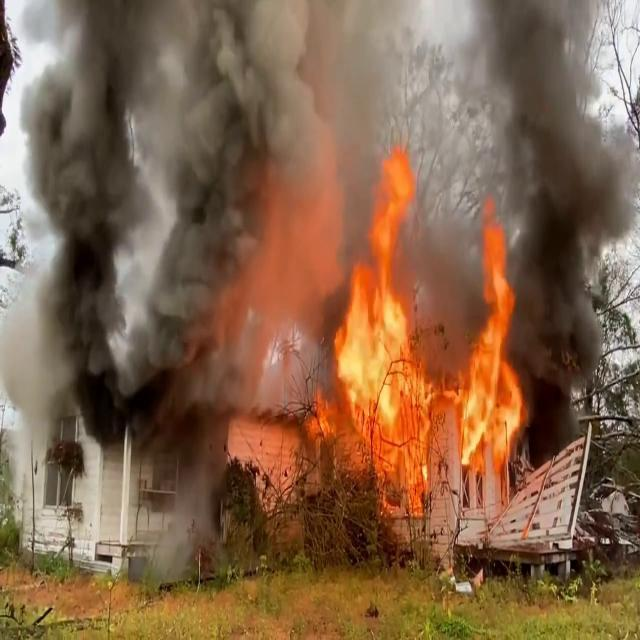Fire: (318, 158, 440, 516), (452, 218, 530, 484)
Smoke: (5, 0, 325, 497), (418, 1, 640, 379)
